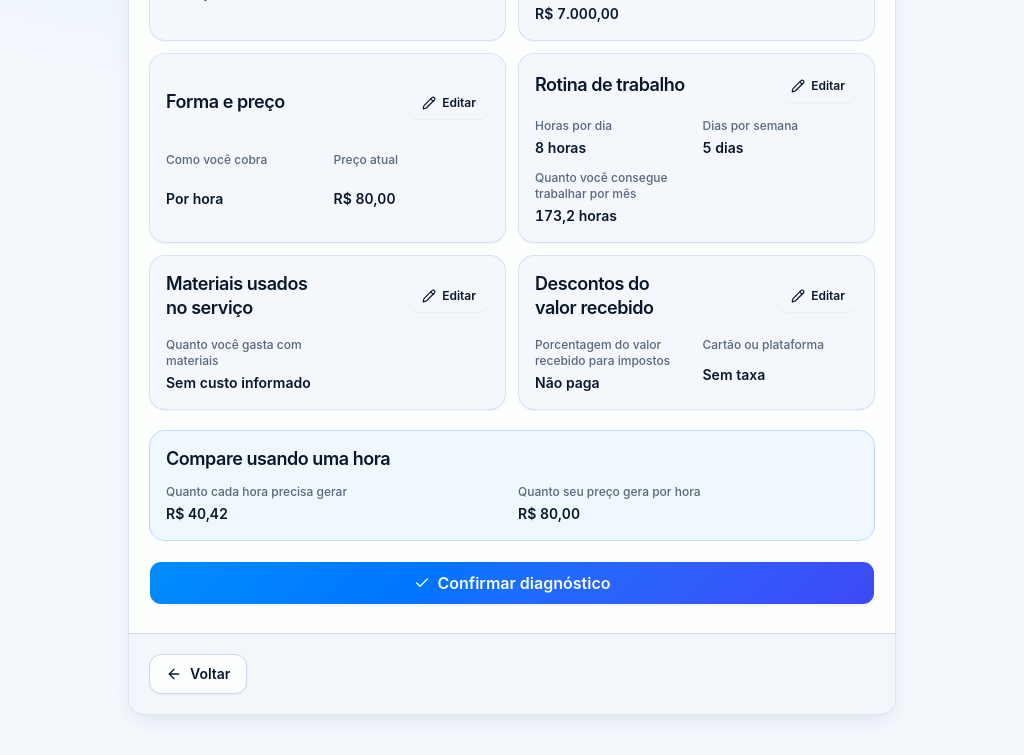
Test case: ServiceDiagnosisWizard › blocks duplicate confirmation while preparing the report
(page scrolled)
Double-click the button "Confirmar diagnóstico" at (512, 583), box [149, 561, 875, 605]
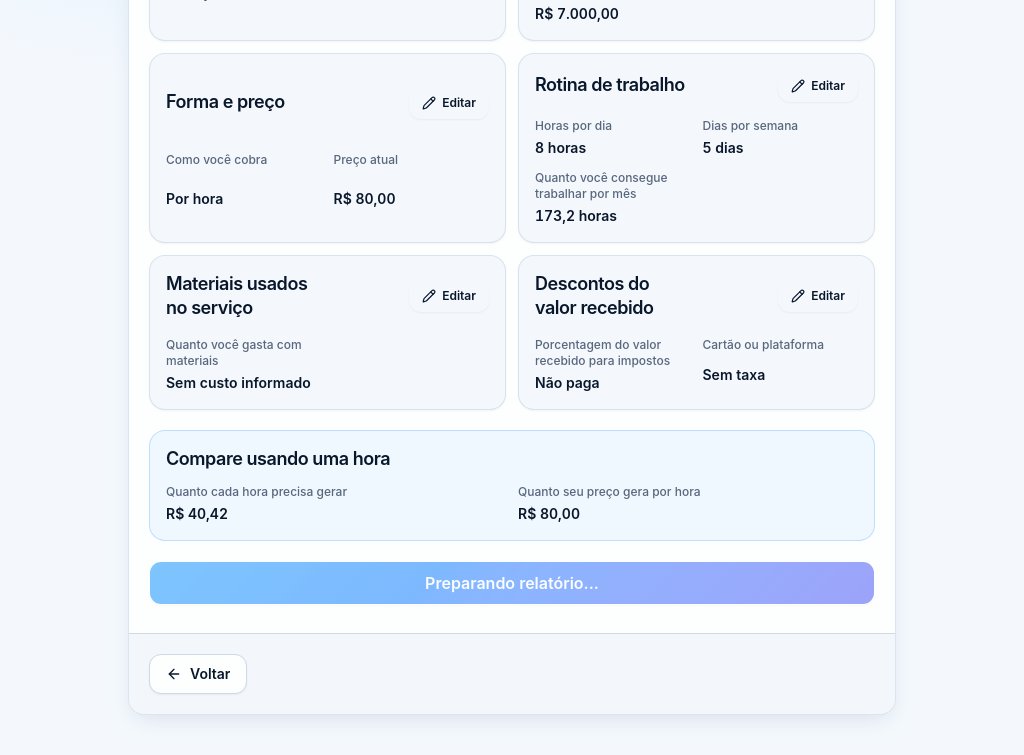
Result: the button "Preparando relatório..." is disabled at [149, 561, 875, 605]
